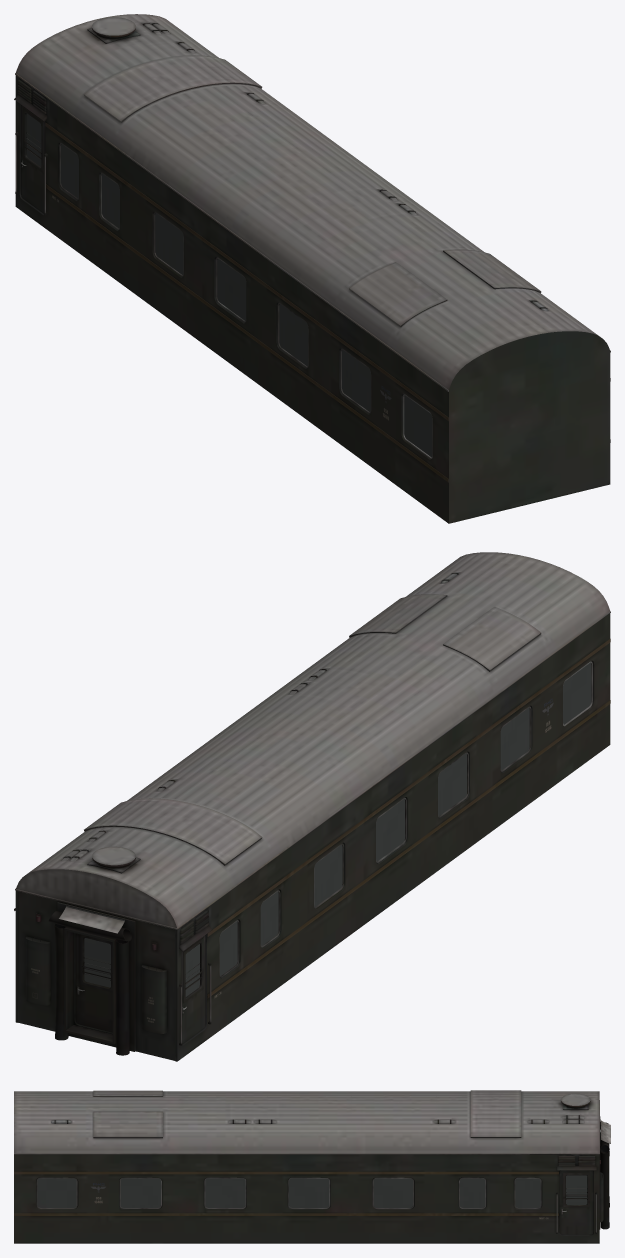
Rendered from vagao.glb.
The picture shows the model from 3 angles, top to bottom: view 1: azimuth 30°, elevation 25°; view 2: azimuth 150°, elevation 25°; view 3: azimuth 270°, elevation 25°; orthographic projection. The views are drawn at different scales.
Visible parts, largest first — view 1: PassengerCar_Details_0, PassengerCar_BaseBox_0, PassengerCar_Glass_0; view 2: PassengerCar_Details_0, PassengerCar_BaseBox_0, PassengerCar_Glass_0; view 3: PassengerCar_Details_0, PassengerCar_BaseBox_0, PassengerCar_Glass_0.
Boxes of the visible parts, <box> form: PassengerCar_Details_0: <box>14,14,610,482</box>; PassengerCar_BaseBox_0: <box>15,75,610,523</box>; PassengerCar_Glass_0: <box>26,113,432,457</box>; PassengerCar_Details_0: <box>14,552,610,1055</box>; PassengerCar_BaseBox_0: <box>15,613,610,1061</box>; PassengerCar_Glass_0: <box>84,662,591,996</box>; PassengerCar_Details_0: <box>14,1090,610,1234</box>; PassengerCar_BaseBox_0: <box>14,1154,599,1243</box>; PassengerCar_Glass_0: <box>37,1175,587,1207</box>.
Size of the model in its own units: 347 by 339 by 1560.
Materials: 4 (4 with a texture image).
